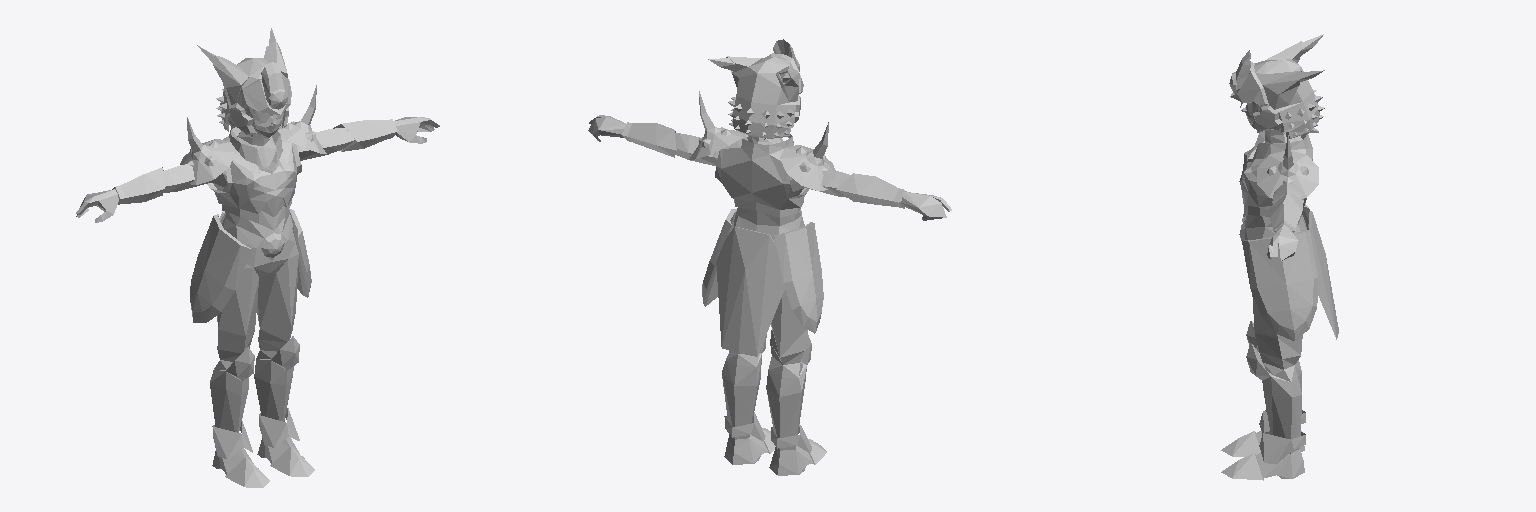
File: Hero (Metal King).obj
The picture shows the model from 3 angles: view 1: azimuth 30°, elevation 25°; view 2: azimuth 150°, elevation 25°; view 3: azimuth 270°, elevation 25°; orthographic projection.
Visible parts, largest first — view 1: vsn_mesh_1_polySurface1, vsn_mesh_0_polySurface1, vsn_mesh_4_skin6__oline_i_c2, vsn_mesh_3_skin6__oline_i_c2, vsn_mesh_2_polySurface1; view 2: vsn_mesh_1_polySurface1, vsn_mesh_0_polySurface1, vsn_mesh_4_skin6__oline_i_c2, vsn_mesh_3_skin6__oline_i_c2; view 3: vsn_mesh_1_polySurface1, vsn_mesh_0_polySurface1, vsn_mesh_4_skin6__oline_i_c2, vsn_mesh_3_skin6__oline_i_c2.
Part boxes in pixels (bbox=[...]): vsn_mesh_1_polySurface1: bbox=[180, 28, 326, 487]; vsn_mesh_0_polySurface1: bbox=[163, 107, 354, 369]; vsn_mesh_4_skin6__oline_i_c2: bbox=[112, 119, 397, 204]; vsn_mesh_3_skin6__oline_i_c2: bbox=[76, 117, 439, 222]; vsn_mesh_2_polySurface1: bbox=[245, 108, 284, 137]; vsn_mesh_1_polySurface1: bbox=[689, 39, 835, 475]; vsn_mesh_0_polySurface1: bbox=[675, 133, 850, 377]; vsn_mesh_4_skin6__oline_i_c2: bbox=[622, 122, 906, 208]; vsn_mesh_3_skin6__oline_i_c2: bbox=[588, 115, 951, 220]; vsn_mesh_1_polySurface1: bbox=[1221, 34, 1338, 480]; vsn_mesh_0_polySurface1: bbox=[1240, 102, 1318, 382]; vsn_mesh_4_skin6__oline_i_c2: bbox=[1269, 192, 1303, 232]; vsn_mesh_3_skin6__oline_i_c2: bbox=[1267, 225, 1298, 260].
Bounding box in the file's own units: 12.37 × 13.38 × 3.5.